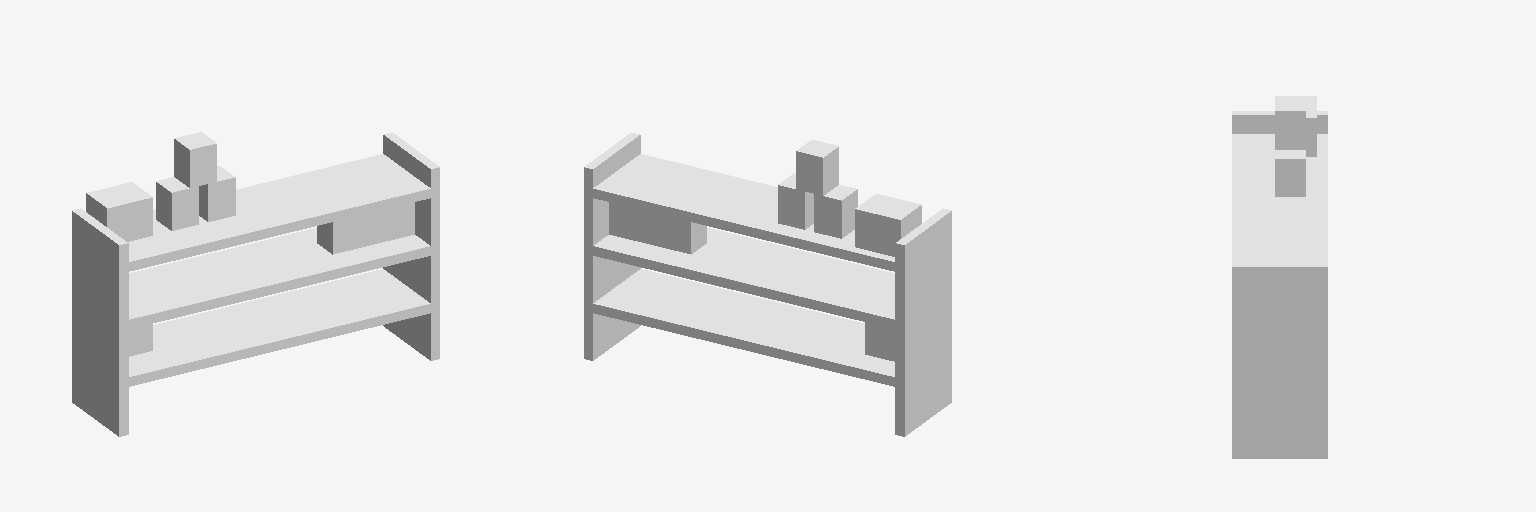
File: FilledShelf.obj
3 renders of one model, left to right at view 1: azimuth 30°, elevation 25°; view 2: azimuth 150°, elevation 25°; view 3: azimuth 270°, elevation 25°, orthographic.
Visible parts, largest first — view 1: object 1; view 2: object 1; view 3: object 1.
Boxes of the visible parts, <box> form: object 1: <box>72,132,439,436</box>; object 1: <box>584,132,951,436</box>; object 1: <box>1232,96,1327,458</box>.
Size of the model in its own units: 3.5 by 2.6 by 0.9.